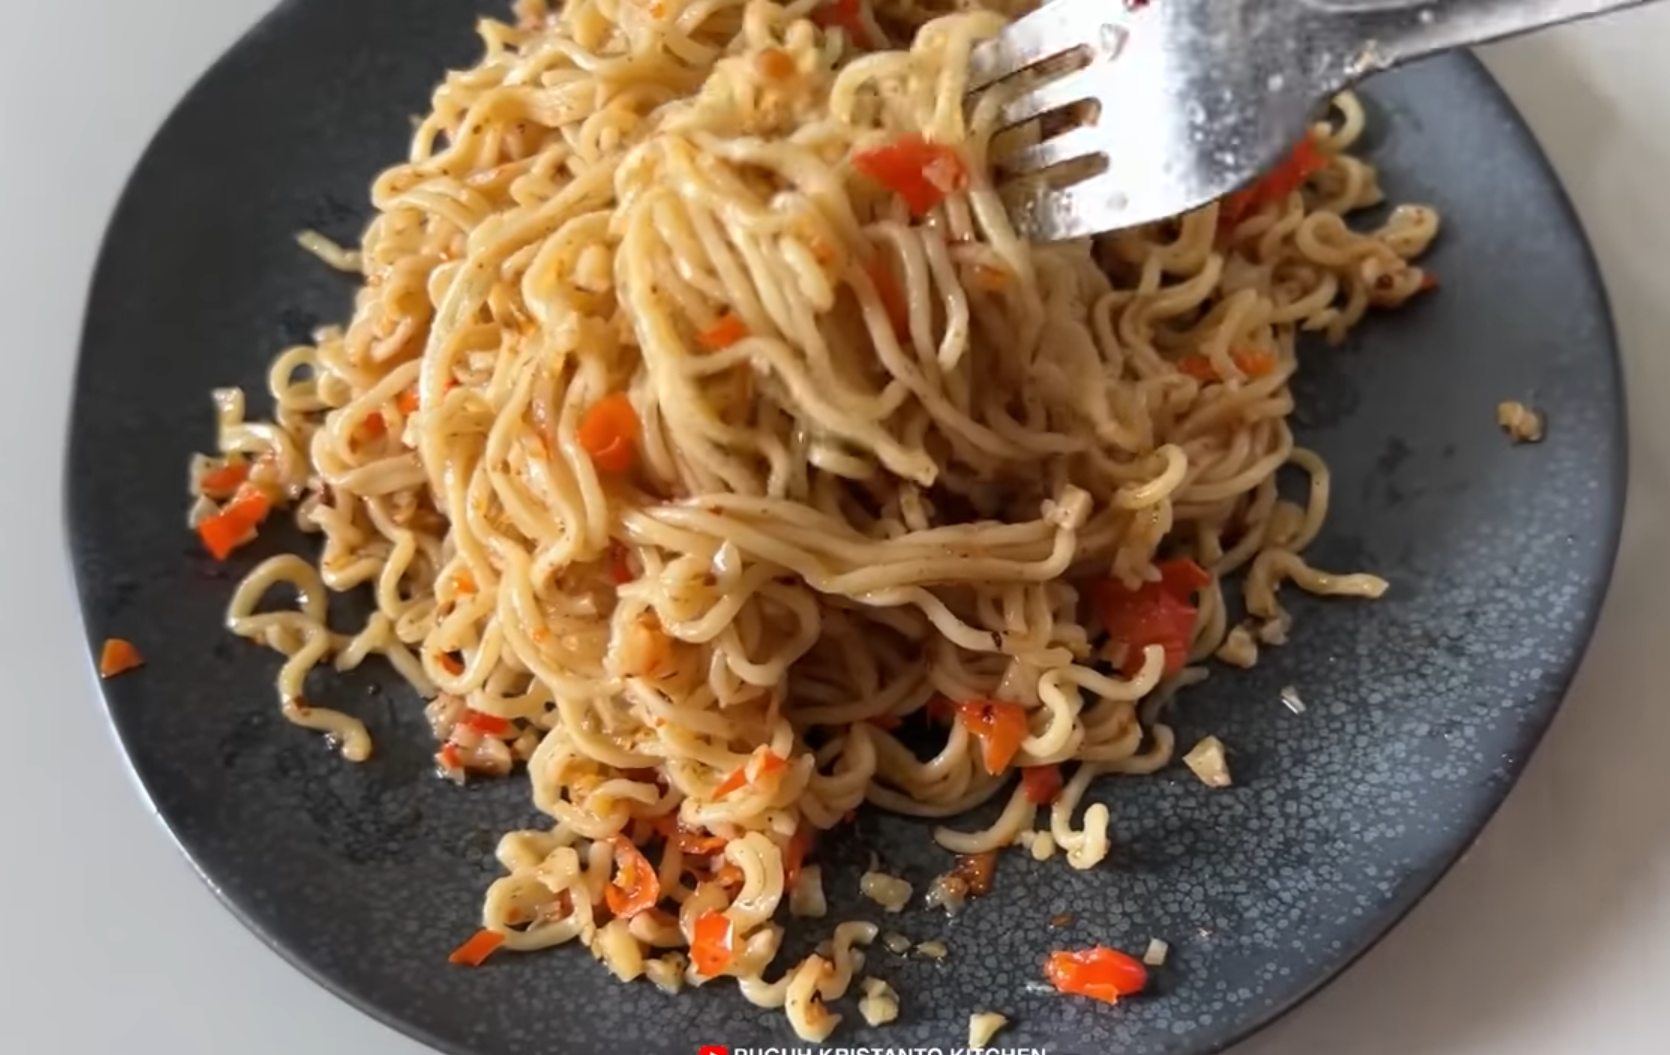Mie: (328, 39, 1479, 851)
